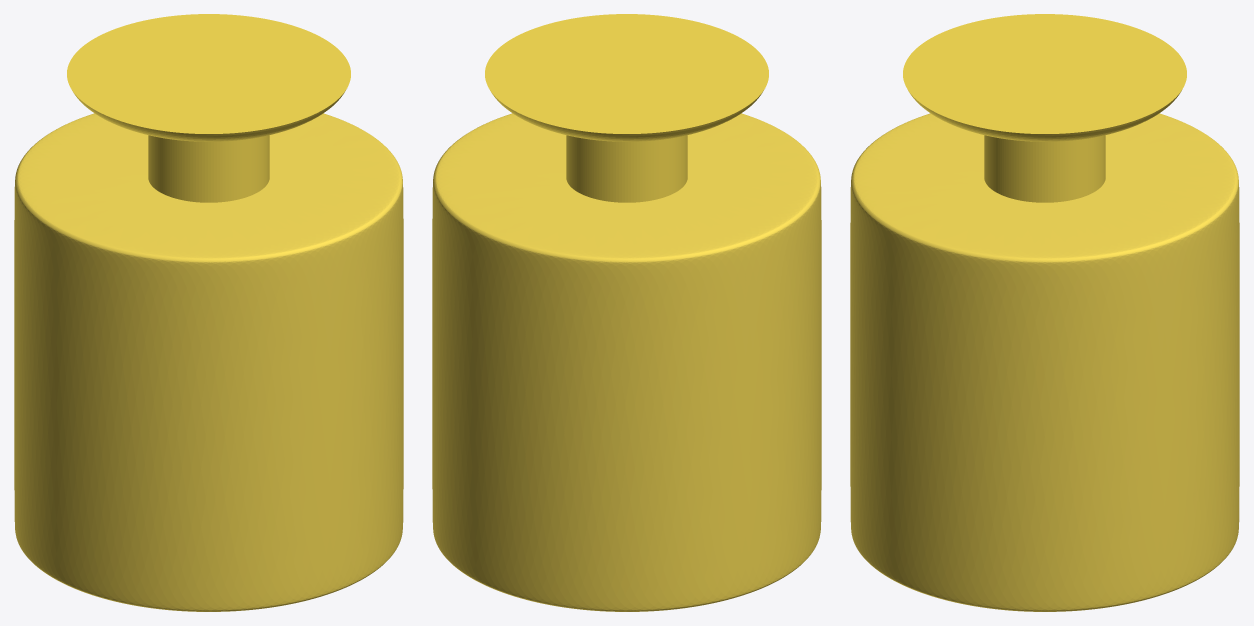
File: weight_Goden.fbx
3 renders of one model, left to right at view 1: azimuth 30°, elevation 25°; view 2: azimuth 150°, elevation 25°; view 3: azimuth 270°, elevation 25°, orthographic.
Parts seen in each view (by area): view 1: bottom, up; view 2: bottom, up; view 3: bottom, up.
Part boxes in pixels (left/top/right/bottom): bottom: left=14, top=113, right=403, bottom=611; up: left=67, top=14, right=350, bottom=202; bottom: left=432, top=113, right=821, bottom=611; up: left=485, top=14, right=768, bottom=202; bottom: left=850, top=113, right=1239, bottom=611; up: left=903, top=14, right=1186, bottom=202.
Size of the model in its own units: 140 by 181 by 140.
